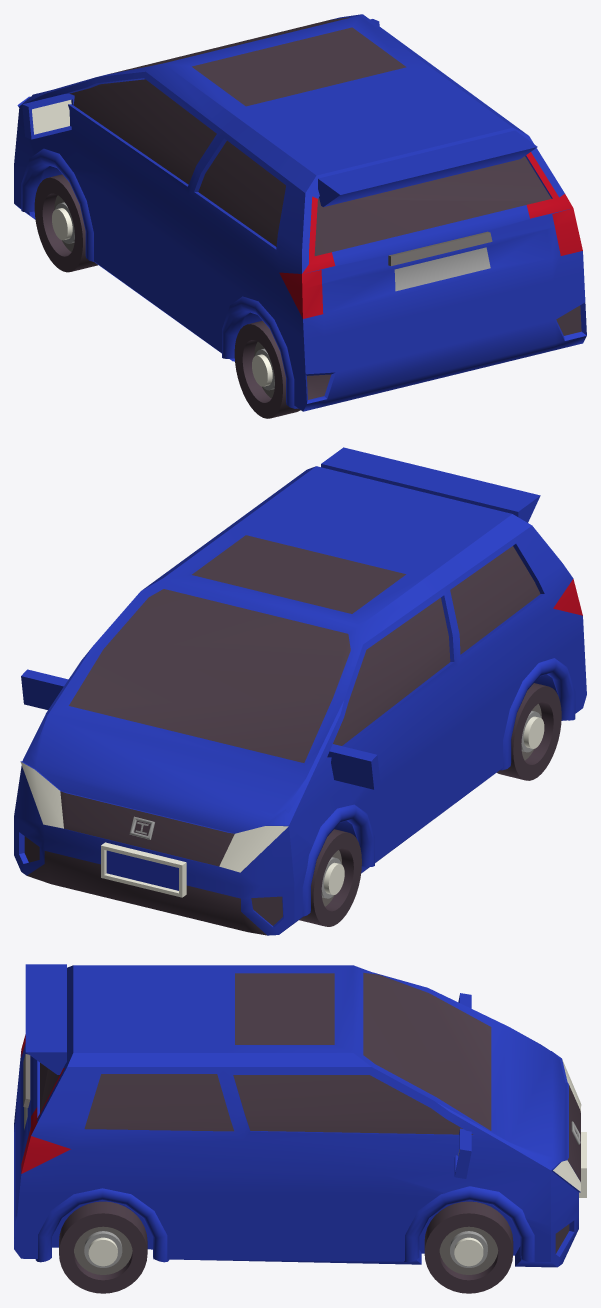
The picture shows the model from 3 angles, top to bottom: view 1: azimuth 30°, elevation 25°; view 2: azimuth 150°, elevation 25°; view 3: azimuth 270°, elevation 25°; orthographic projection. The views are drawn at different scales.
Visible parts, largest first — view 1: 圆环_5; view 2: 圆环_5; view 3: 圆环_5.
Part boxes in pixels (x1=…): 圆环_5: x1=14, y1=14, x2=586, y2=418; 圆环_5: x1=14, y1=447, x2=586, y2=935; 圆环_5: x1=14, y1=964, x2=586, y2=1293.
Bounding box in the file's own units: 250 × 165 × 388.
